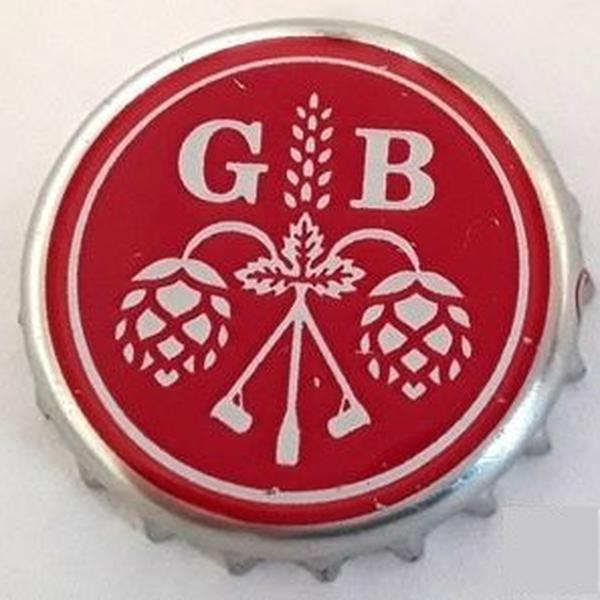grolsch: (8, 6, 600, 598)
